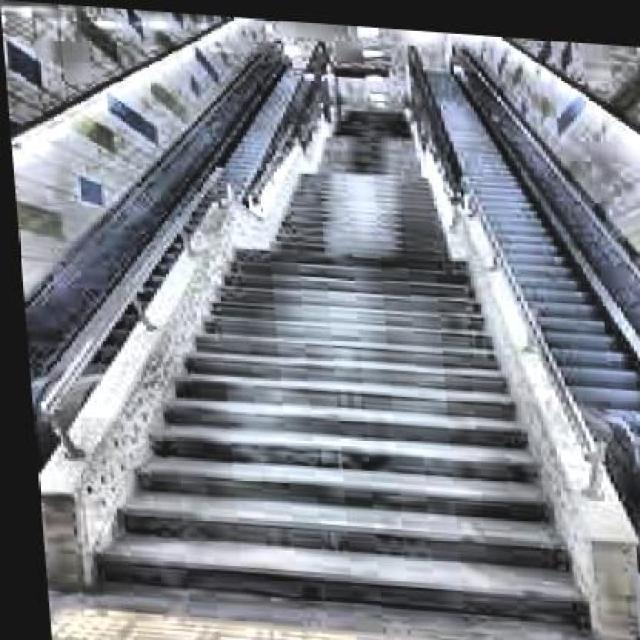stair: (88, 230, 620, 638)
